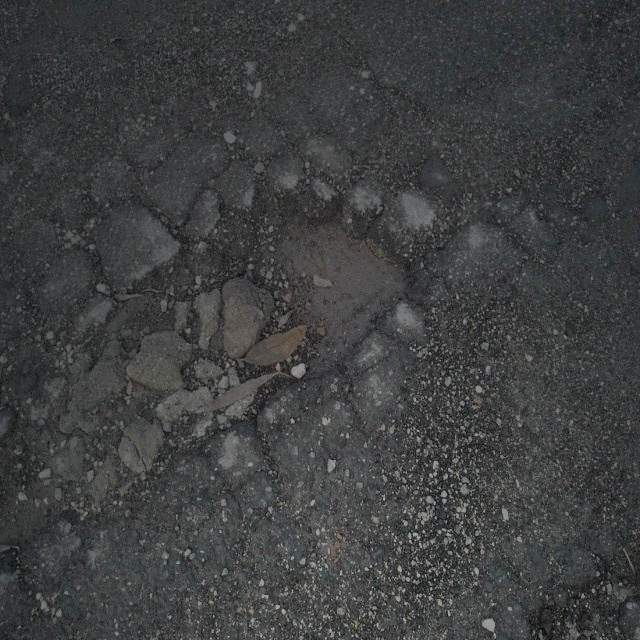pothole: (236, 188, 422, 398)
